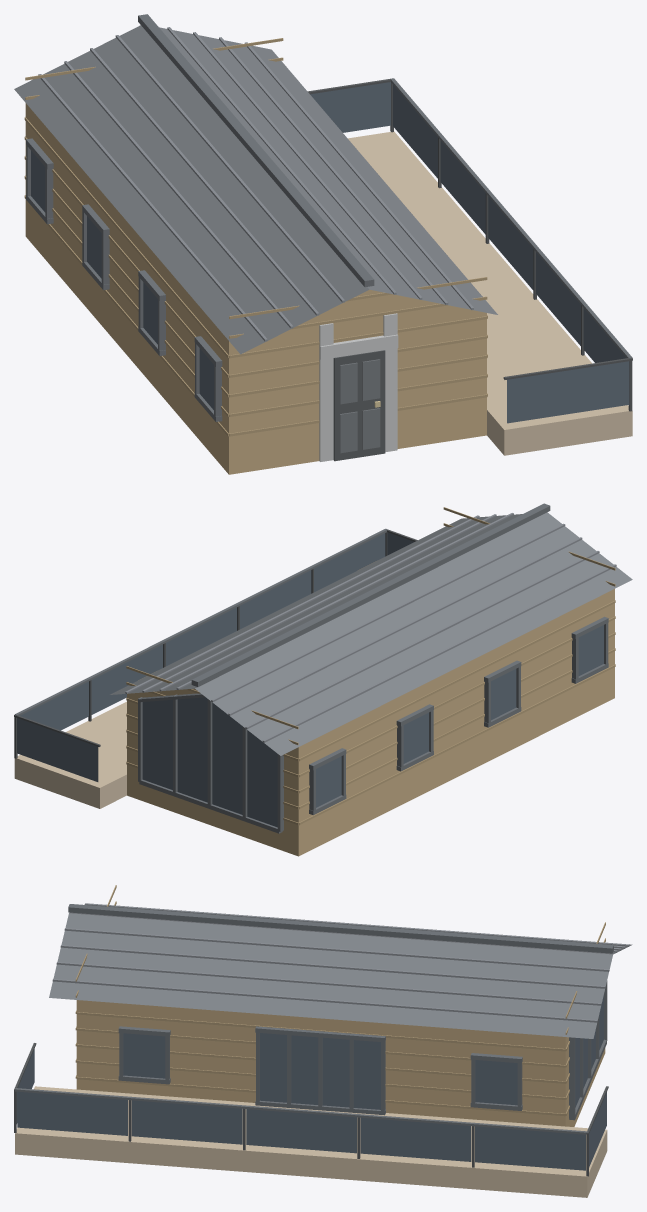
3 renders of one model, top to bottom at view 1: azimuth 30°, elevation 25°; view 2: azimuth 150°, elevation 25°; view 3: azimuth 270°, elevation 25°, orthographic. The views are drawn at different scales.
Visible parts, largest first — view 1: slate, door_wood, larch, slate_dk, slate_lt, door_wood_p, window_glass_006, stone_band, door_dark_p, window_glass_007, door_dark, window_glass_003 (+9 smaller); view 2: slate, door_wood, slate_dk, window_glass_014, slate_lt, larch, door_wood_p, window_glass_007, window_glass_004, window_glass_002, window_glass_005, window_glass_001 (+6 smaller); view 3: slate, door_wood, larch, slate_dk, slate_lt, door_wood_p, window_glass_002, window_glass_004, window_glass_005, window_glass_003, window_glass_001, window_glass_010 (+8 smaller).
Boxes of the visible parts, box(x1,y1,x2,y2) form: slate: box(14, 25, 497, 354); door_wood: box(25, 103, 486, 474); larch: box(348, 131, 632, 455); slate_dk: box(26, 14, 632, 421); slate_lt: box(38, 27, 473, 341); door_wood_p: box(24, 38, 487, 436); window_glass_006: box(507, 361, 629, 423); stone_band: box(319, 313, 398, 461); door_dark_p: box(340, 359, 380, 453); window_glass_007: box(310, 82, 390, 132); door_dark: box(333, 350, 385, 461); window_glass_003: box(488, 196, 533, 289); slate: box(110, 512, 632, 755); door_wood: box(127, 561, 614, 856); slate_dk: box(15, 503, 608, 833); window_glass_014: box(142, 697, 277, 827); slate_lt: box(125, 513, 616, 742); larch: box(14, 701, 126, 808); door_wood_p: box(126, 507, 615, 825); window_glass_007: box(17, 718, 98, 781); window_glass_004: box(91, 644, 162, 714); window_glass_002: box(240, 570, 311, 629); window_glass_005: box(20, 681, 88, 730); window_glass_001: box(314, 533, 385, 592); slate: box(49, 903, 632, 1038); door_wood: box(76, 1000, 605, 1126); larch: box(15, 1086, 607, 1197); slate_dk: box(15, 904, 613, 1134); slate_lt: box(52, 903, 629, 1022); door_wood_p: box(75, 885, 605, 1116); window_glass_002: box(131, 1100, 242, 1144); window_glass_004: box(360, 1117, 471, 1161); window_glass_005: box(475, 1126, 585, 1170); window_glass_003: box(246, 1109, 356, 1153); window_glass_001: box(17, 1091, 127, 1135); window_glass_010: box(322, 1037, 349, 1107).
Bounding box in the file's own units: 9.25 × 3.66 × 13.17.
